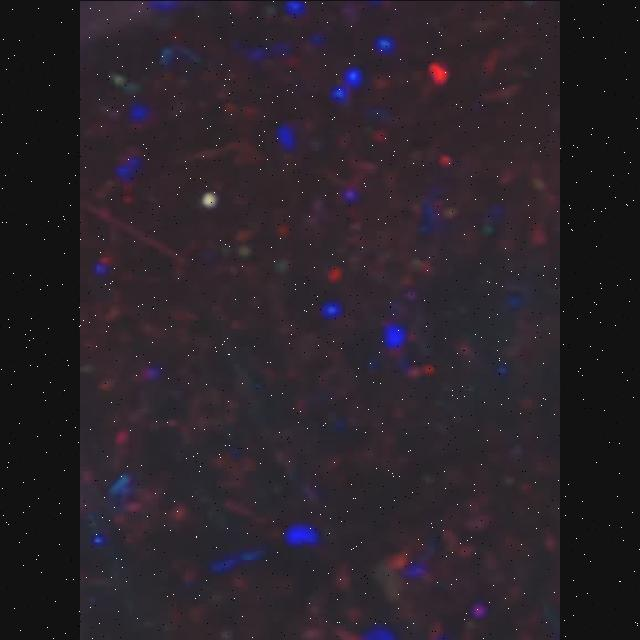microbeads: (200, 190, 220, 208)
